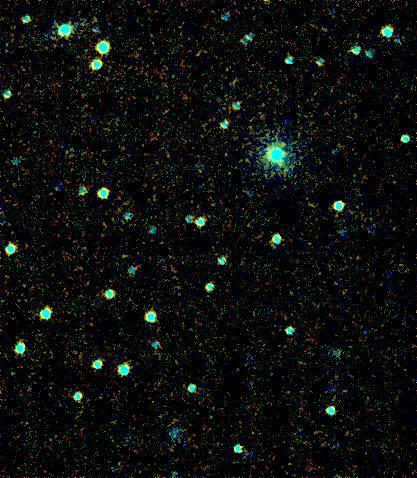star: (270, 128, 300, 158)
